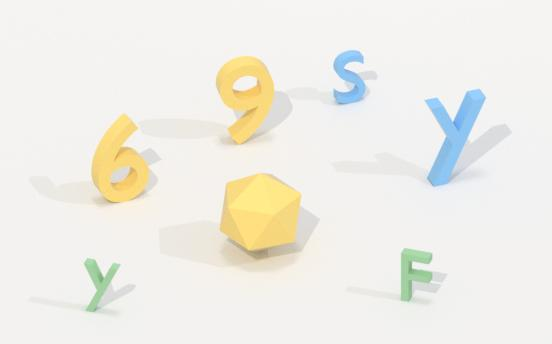6: (90, 113, 151, 203)
9: (214, 59, 277, 148)
F: (395, 244, 441, 305)
Y: (418, 89, 490, 189), (80, 254, 125, 315)
dagiac: (210, 173, 309, 250)
s: (328, 49, 373, 108)
